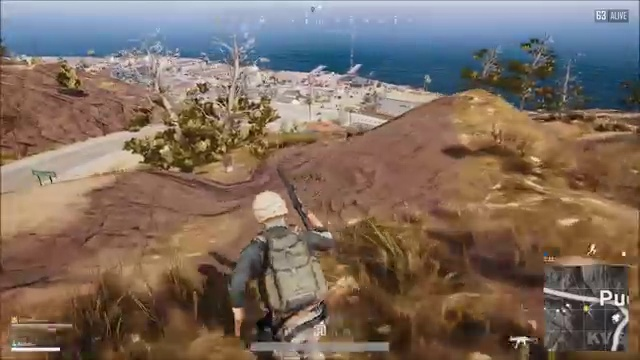Player: (197, 177, 386, 321)
